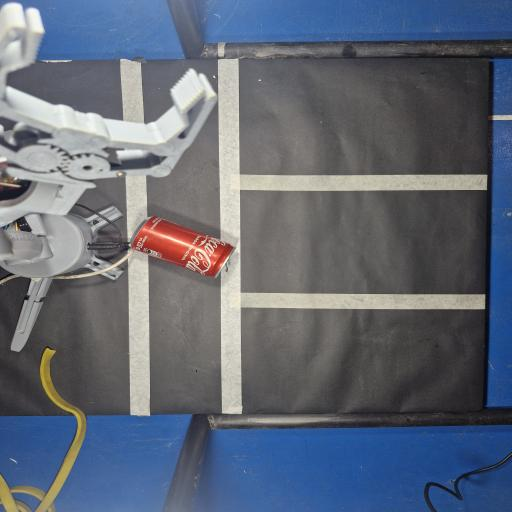lata: (132, 216, 235, 278)
